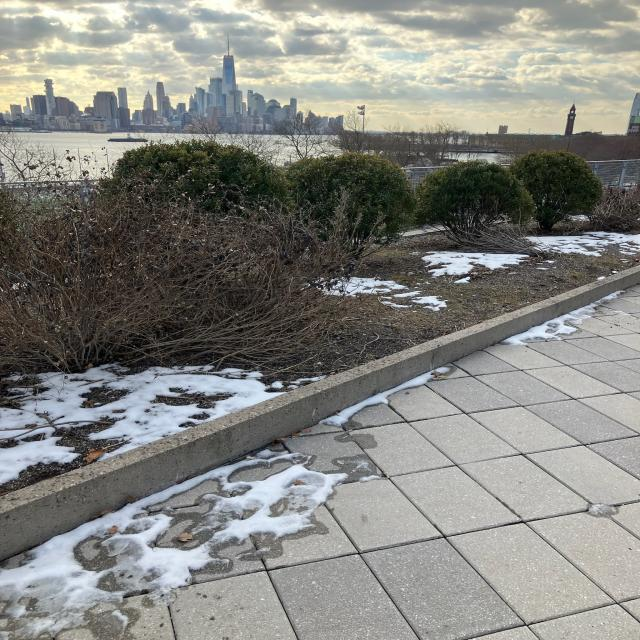WTC: (222, 34, 236, 96)
